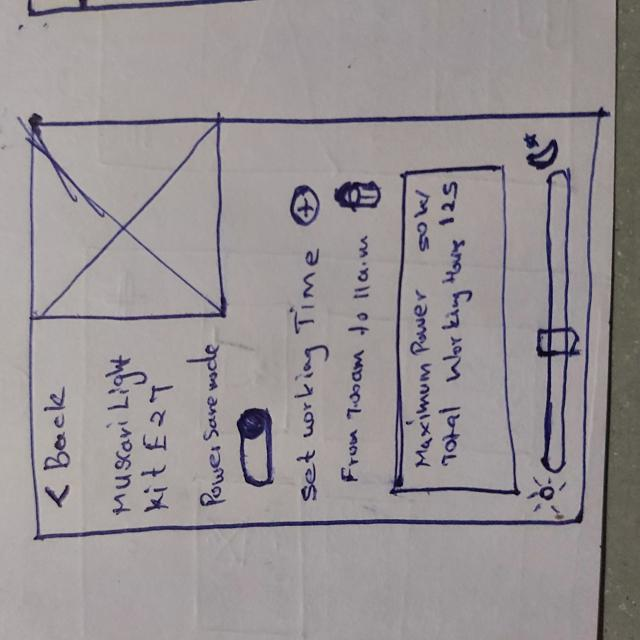BackButton: (41, 480, 81, 513)
Icon: (521, 126, 563, 171), (528, 475, 569, 513)
IconButton: (334, 172, 386, 214), (290, 184, 322, 230)
Image: (30, 122, 224, 320)
Layout: (398, 166, 515, 497)
MainLayout: (26, 113, 602, 537)
Slider: (535, 168, 580, 473)
Switch: (234, 407, 280, 489)
TextView: (410, 186, 468, 480), (291, 248, 326, 501), (344, 231, 367, 484), (101, 354, 136, 517), (198, 342, 228, 514), (144, 385, 170, 513), (45, 386, 74, 470)
